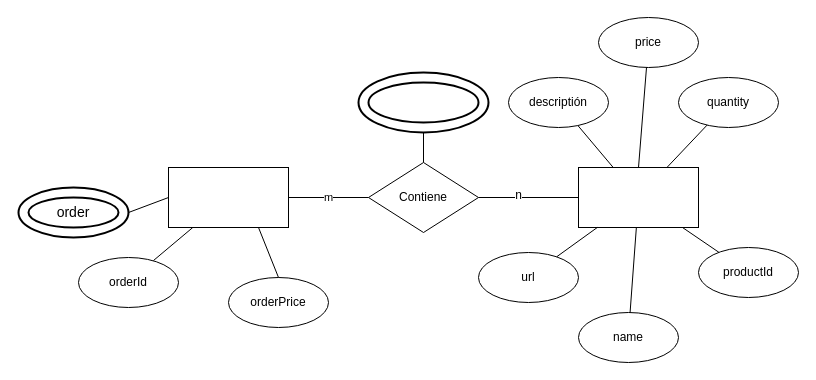
This 816x380 diagram has some shape labels left out. Each missing label, with the centre of its shape:
Orders: [228,197]
orderXproduct: [423,102]
Products: [638,197]
